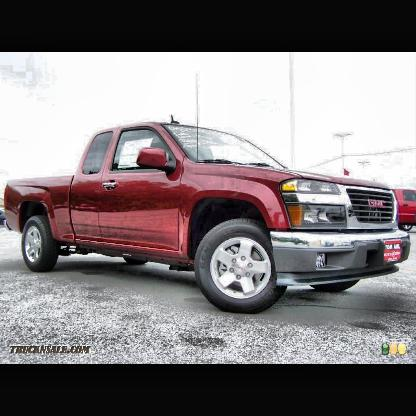GMC Canyon Extended Cab 2012: (4, 114, 413, 314)
